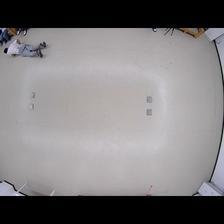fall: (3, 37, 47, 61)
